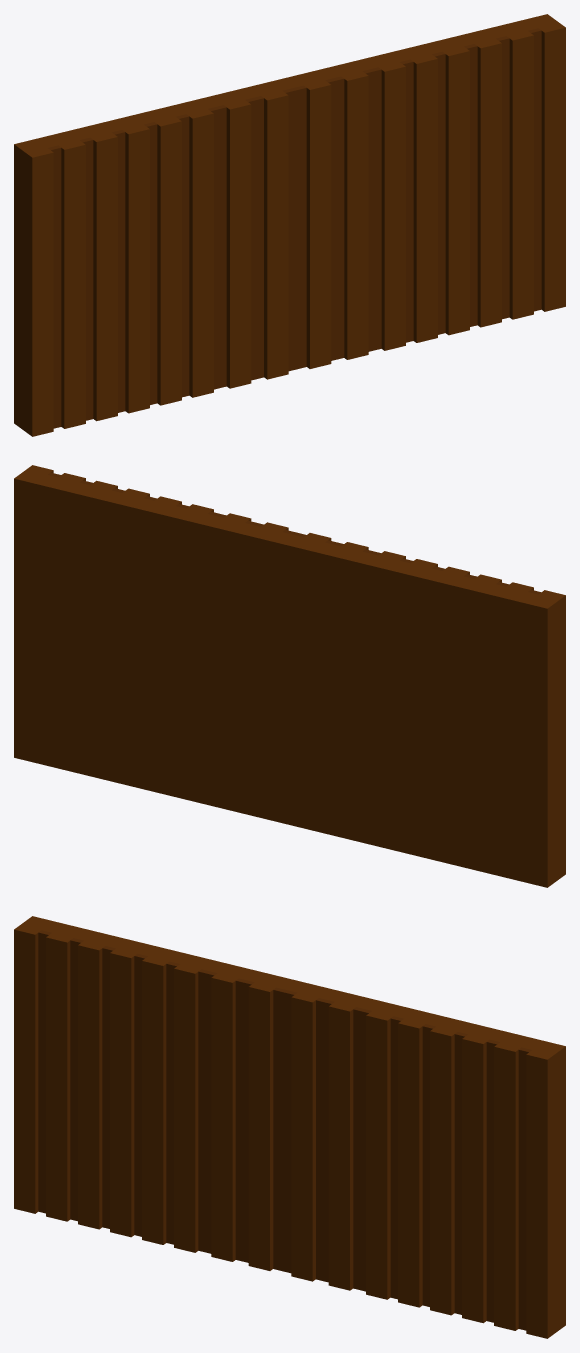
Rendered from Wall_half_UpDown.obj.
3 views of the same model, one above another, from view 1: azimuth 30°, elevation 25°; view 2: azimuth 150°, elevation 25°; view 3: azimuth 330°, elevation 25° (orthographic).
Bounding box in the file's own units: 10 × 5 × 0.6.
1 material, 1 textured.
